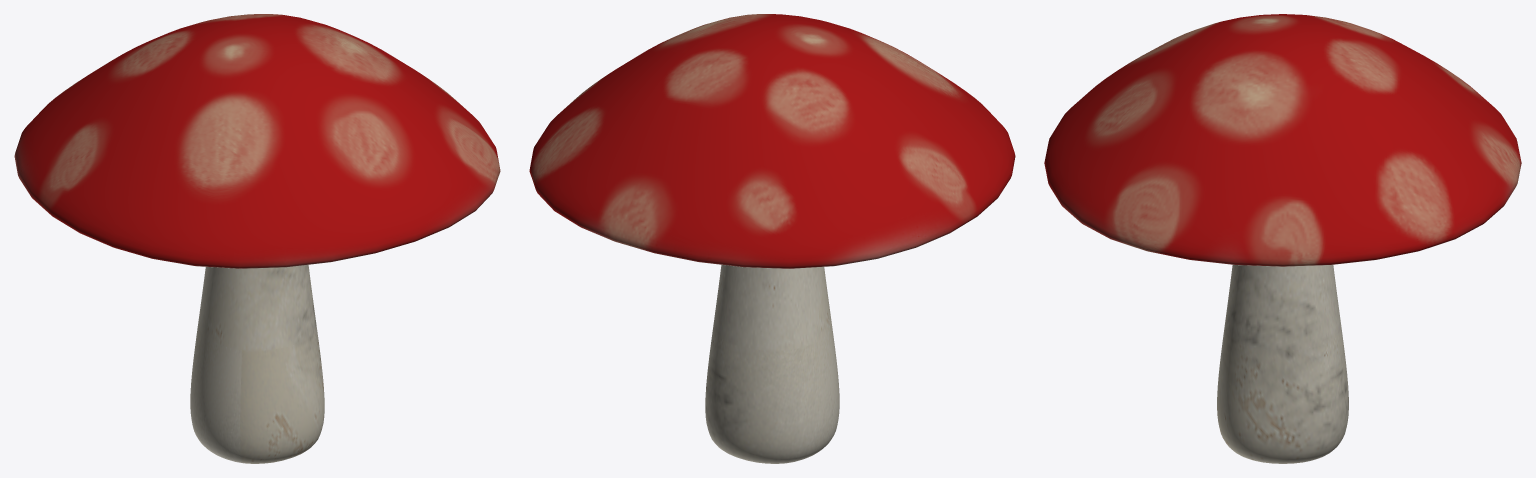
The model's file is Pilz.fbx.
3 views of the same model, side by side, from view 1: azimuth 30°, elevation 25°; view 2: azimuth 150°, elevation 25°; view 3: azimuth 270°, elevation 25° (orthographic).
Parts seen in each view (by area): view 1: Pilz; view 2: Pilz; view 3: Pilz.
Boxes of the visible parts, x1=… form: Pilz: x1=14, y1=14, x2=500, y2=463; Pilz: x1=529, y1=14, x2=1015, y2=463; Pilz: x1=1044, y1=14, x2=1521, y2=463.
Bounding box in the file's own units: 59.22 × 57.05 × 59.22.
